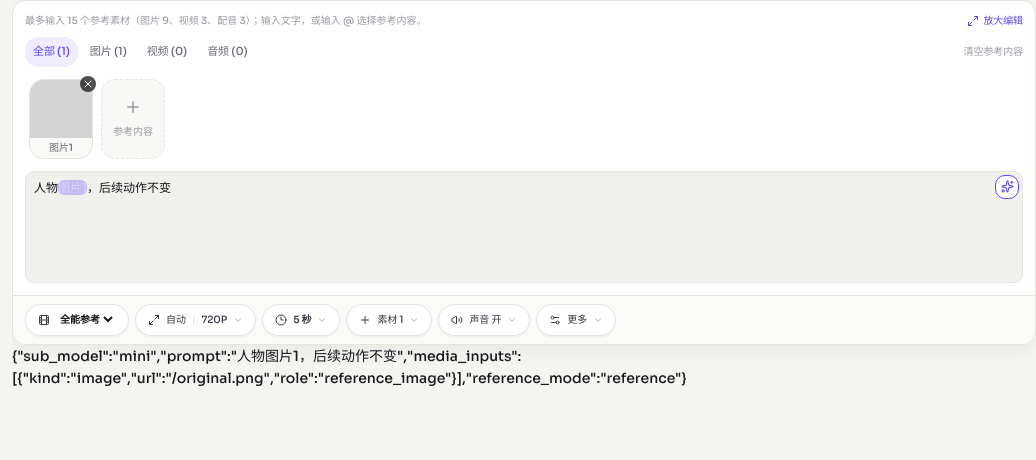
it: mention trigger after media tokens › inserts at the token boundary in the actual panel, expanded=false
Click the text box at (524, 227), box [25, 171, 1023, 283]
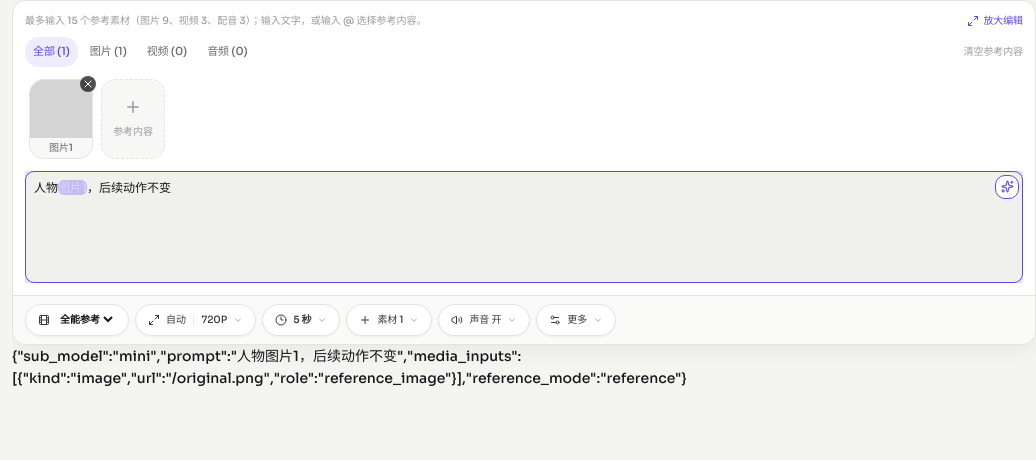
Type keys "@"
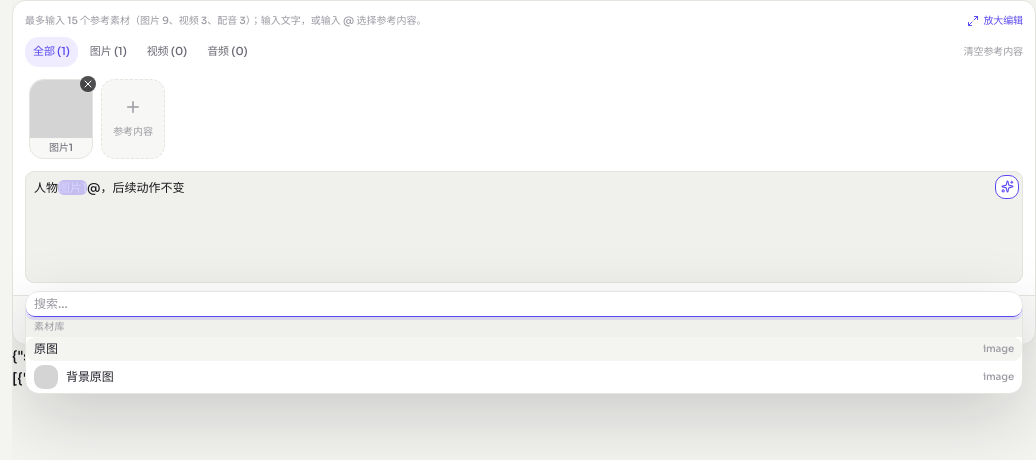
Click the button "背景原图 image" at (90, 376), box [26, 361, 1022, 393]
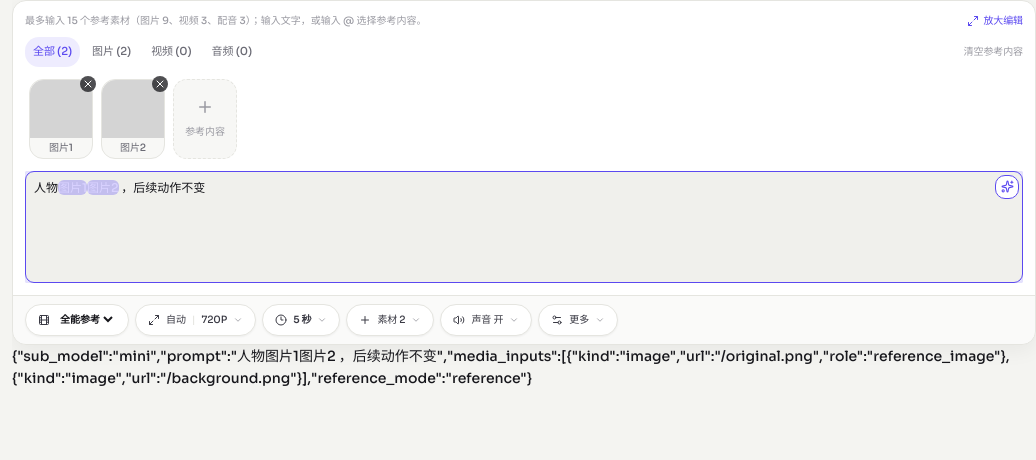
Expected: the text box holds "人物图片1图片2 ，后续动作不变", [25, 171, 1023, 283]
